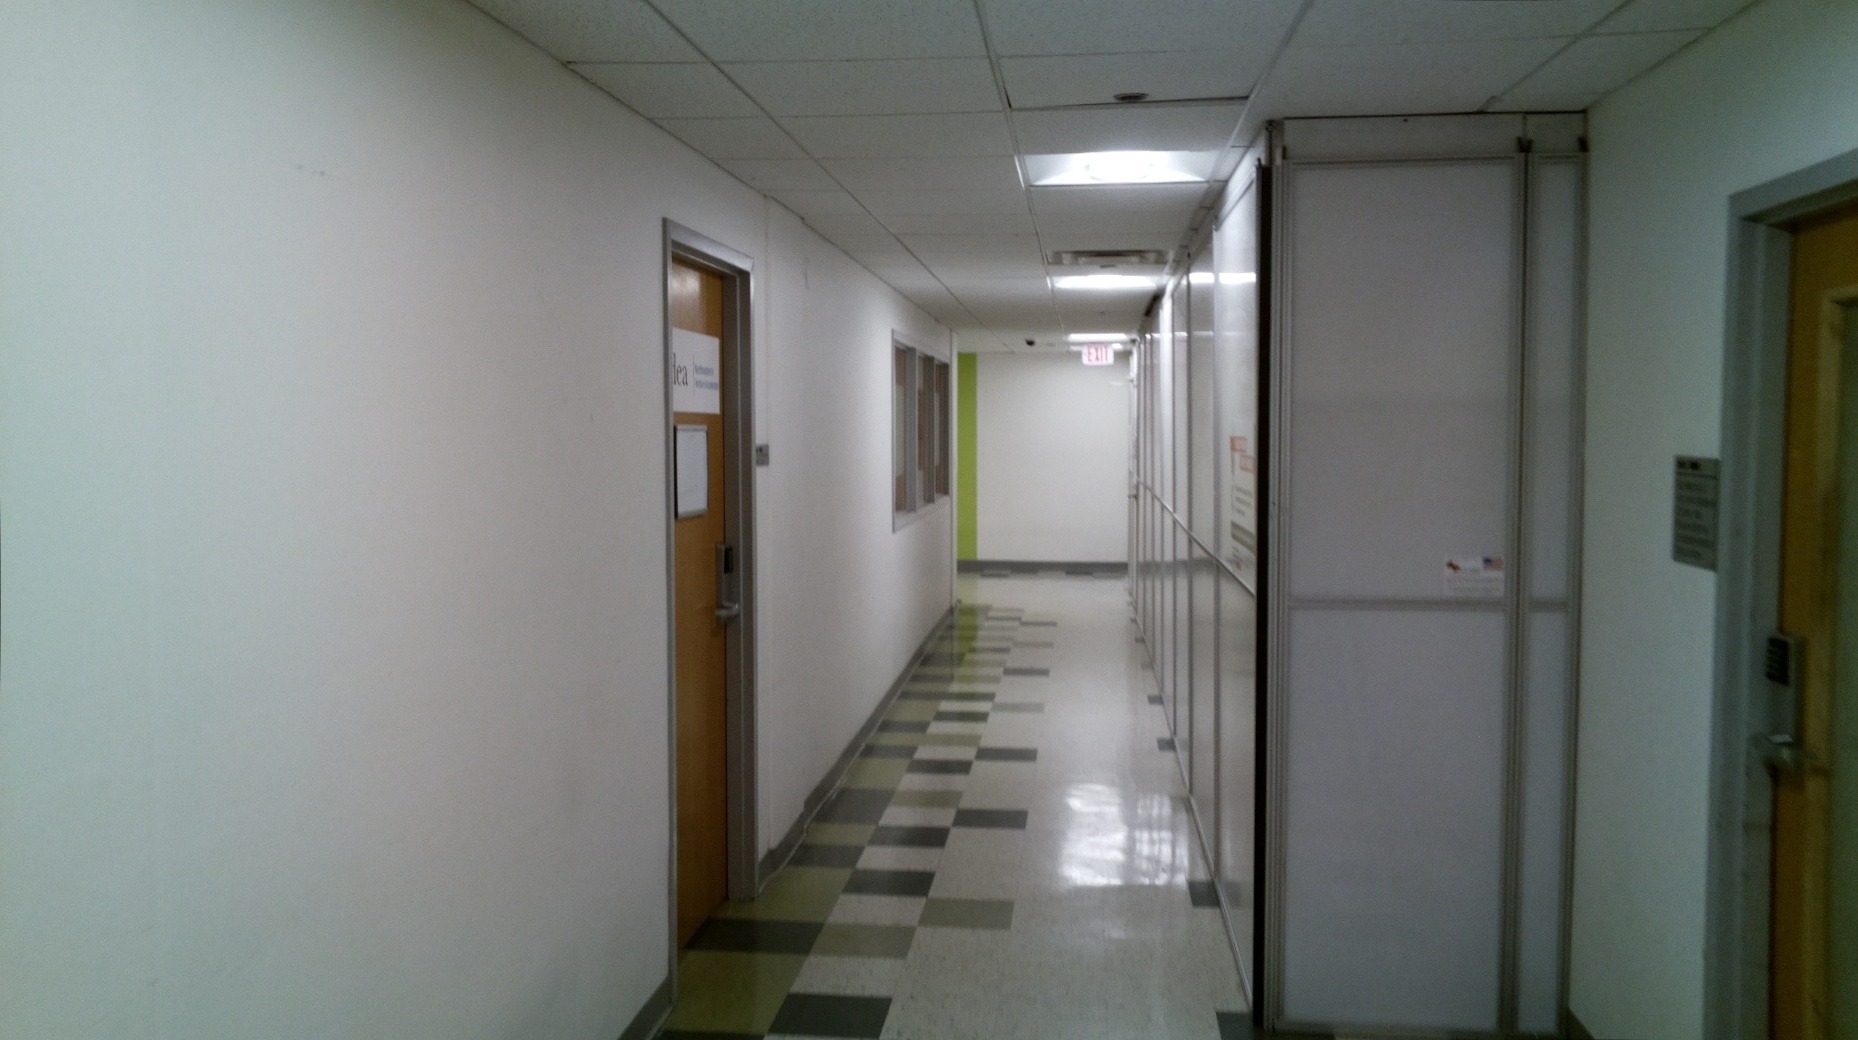exit sign: (1080, 341, 1115, 369)
